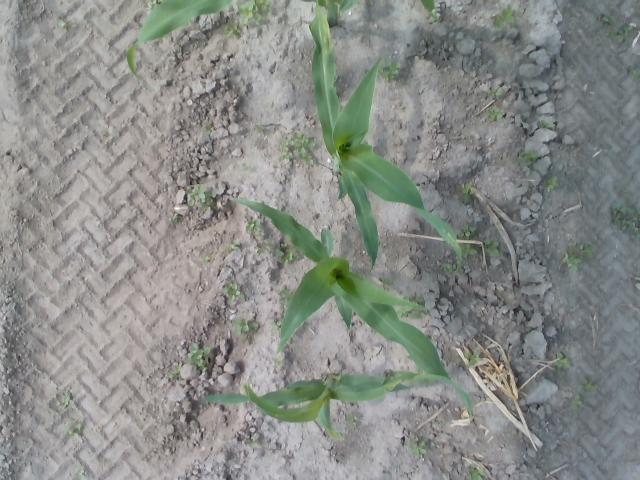Maize: (311, 2, 464, 278), (230, 196, 450, 378), (127, 0, 440, 82), (192, 371, 476, 436)
Weeds: (280, 132, 316, 162), (239, 0, 273, 26), (233, 317, 260, 336), (278, 236, 294, 266), (184, 186, 206, 206), (493, 6, 515, 26), (184, 344, 208, 362), (616, 24, 635, 44), (380, 64, 400, 83), (59, 390, 75, 412), (252, 238, 274, 254), (458, 181, 472, 205), (224, 281, 242, 299), (245, 216, 262, 235), (614, 202, 634, 218), (226, 20, 242, 38), (556, 352, 570, 372), (484, 236, 500, 253), (519, 148, 536, 164), (466, 347, 480, 366), (411, 442, 426, 458), (490, 107, 504, 123), (344, 412, 360, 426), (566, 254, 581, 268), (538, 120, 557, 131), (278, 286, 289, 305), (621, 218, 637, 231), (464, 244, 478, 258), (570, 395, 584, 409), (462, 224, 476, 237), (471, 468, 486, 480), (202, 119, 214, 133), (580, 243, 592, 256), (490, 87, 504, 98), (546, 176, 558, 188), (584, 380, 596, 392), (600, 14, 612, 25), (253, 124, 266, 134), (230, 242, 242, 252), (172, 368, 180, 382), (272, 320, 280, 334), (630, 69, 640, 80), (606, 27, 616, 38), (202, 252, 210, 265), (271, 358, 282, 367), (70, 426, 82, 434), (100, 128, 110, 136), (59, 20, 69, 28), (413, 433, 421, 442)
